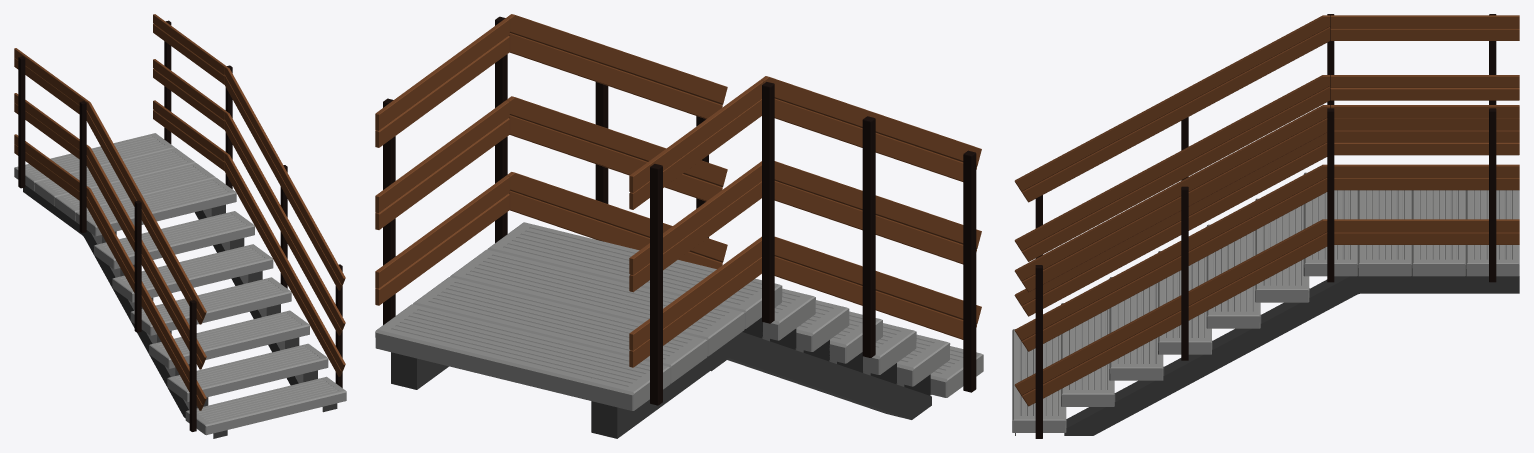
Rendered from outdoor_staircase.obj.
3 views of the same model, side by side, from view 1: azimuth 30°, elevation 25°; view 2: azimuth 150°, elevation 25°; view 3: azimuth 270°, elevation 25° (orthographic). The views are drawn at different scales.
Parts seen in each view (by area): view 1: Stair069, Stair062, Stair055, Stair041, Stair034, Stair048, Stair, Bottom002, Stair007, Stair014, Stair021, Box089 (+32 smaller); view 2: Stair021, Bottom002, Stair014, Stair007, Stair, Box012, Box011, Box117, Box037, Box121, Box125, Box118 (+31 smaller); view 3: Bottom1, Box117, Box121, Box012, Box037, Box089, Box118, Box122, Box090, Box126, Box011, Box038 (+27 smaller).
Boxes of the visible parts, left/top/right/bottom form: Stair069: left=185, top=376, right=346, bottom=435; Stair062: left=167, top=343, right=328, bottom=401; Stair055: left=149, top=310, right=309, bottom=368; Stair041: left=112, top=244, right=273, bottom=302; Stair034: left=93, top=211, right=254, bottom=269; Stair048: left=130, top=277, right=291, bottom=335; Stair: left=75, top=178, right=236, bottom=236; Bottom002: left=23, top=185, right=227, bottom=438; Stair007: left=55, top=163, right=216, bottom=221; Stair014: left=34, top=148, right=195, bottom=206; Stair021: left=14, top=133, right=175, bottom=191; Box089: left=224, top=152, right=345, bottom=370; Stair021: left=375, top=304, right=670, bottom=410; Bottom002: left=591, top=317, right=931, bottom=438; Stair014: left=413, top=277, right=707, bottom=383; Stair007: left=450, top=249, right=744, bottom=356; Stair: left=487, top=222, right=782, bottom=328; Box012: left=506, top=14, right=727, bottom=104; Box011: left=509, top=33, right=722, bottom=119; Box117: left=760, top=76, right=981, bottom=166; Box037: left=506, top=96, right=727, bottom=186; Box121: left=760, top=161, right=981, bottom=248; Box125: left=760, top=236, right=981, bottom=324; Box118: left=774, top=98, right=976, bottom=181; Bottom1: left=1015, top=276, right=1519, bottom=435; Box117: left=1014, top=15, right=1330, bottom=191; Box121: left=1014, top=75, right=1330, bottom=251; Box012: left=1014, top=105, right=1330, bottom=281; Box037: left=1014, top=164, right=1327, bottom=340; Box089: left=1014, top=219, right=1327, bottom=395; Box118: left=1021, top=27, right=1330, bottom=202; Box122: left=1021, top=86, right=1330, bottom=261; Box090: left=1021, top=232, right=1327, bottom=406; Box126: left=1021, top=142, right=1327, bottom=316; Box011: left=1022, top=118, right=1327, bottom=292; Box038: left=1021, top=178, right=1327, bottom=351.
Bounding box in the file's own units: 128 × 206 × 282.
